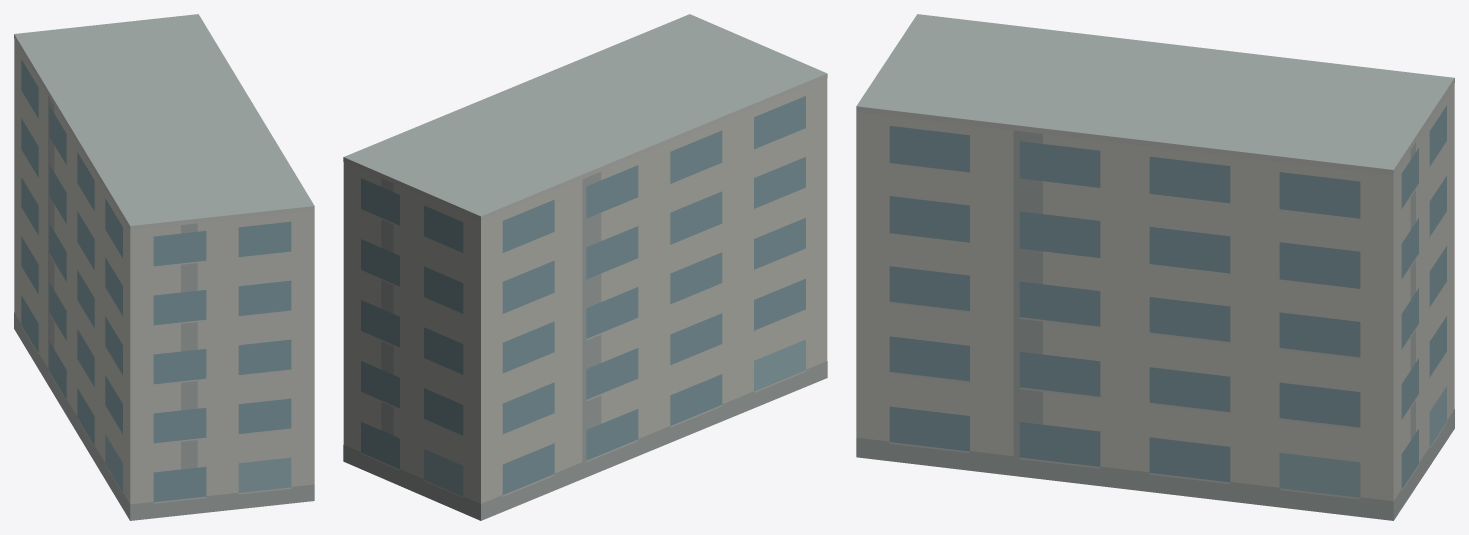
Rendered from residential-b1dcaf28-bae4-446e-8bd3-d7779af4124b.glb.
3 views of the same model, side by side, from view 1: azimuth 30°, elevation 25°; view 2: azimuth 150°, elevation 25°; view 3: azimuth 270°, elevation 25° (orthographic). The views are drawn at different scales.
Visible parts, largest first — view 1: residential-b1dcaf28-bae4-446e-8bd3-d7779af4124b.tmp; view 2: residential-b1dcaf28-bae4-446e-8bd3-d7779af4124b.tmp; view 3: residential-b1dcaf28-bae4-446e-8bd3-d7779af4124b.tmp.
Boxes of the visible parts, left/top/right/bottom form: residential-b1dcaf28-bae4-446e-8bd3-d7779af4124b.tmp: left=14, top=14, right=314, bottom=520; residential-b1dcaf28-bae4-446e-8bd3-d7779af4124b.tmp: left=343, top=14, right=827, bottom=520; residential-b1dcaf28-bae4-446e-8bd3-d7779af4124b.tmp: left=856, top=14, right=1454, bottom=520.
Size of the model in its own units: 14.54 by 15.25 by 23.58.
